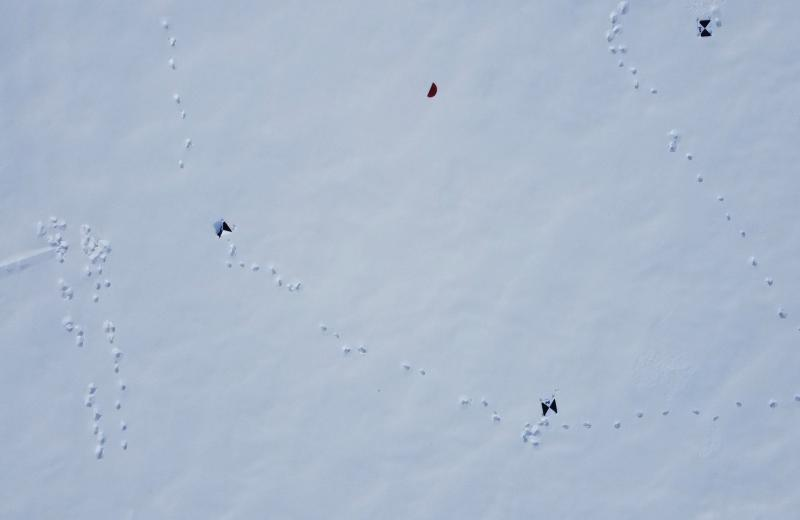Semi Circle: (426, 82, 438, 100)
